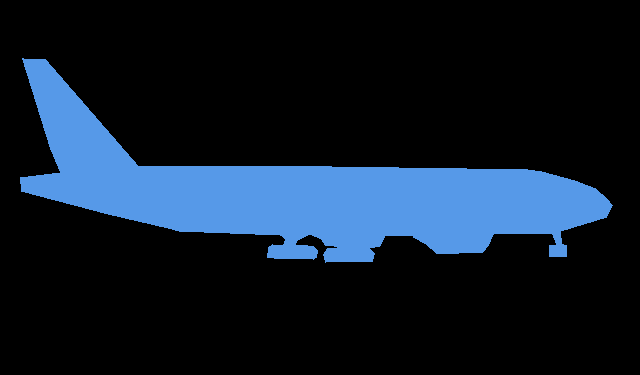Airplane: (20, 58, 612, 263)
